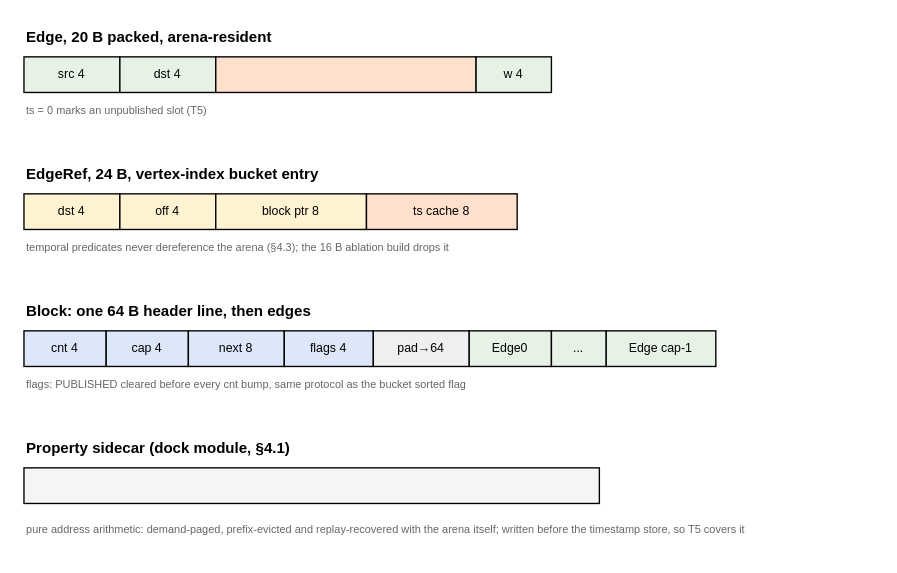
Image size: 897x573. Some labels were removed from this diagram. The shapes that lost their labels are listed below. From the top down, each one's centre as x and y in pixels, then its label:
point 345,73: timestamp 8 (release-published)
point 311,484: prop(e) = P_base + floor((&e - A_base) / 20) × prop_bytes
